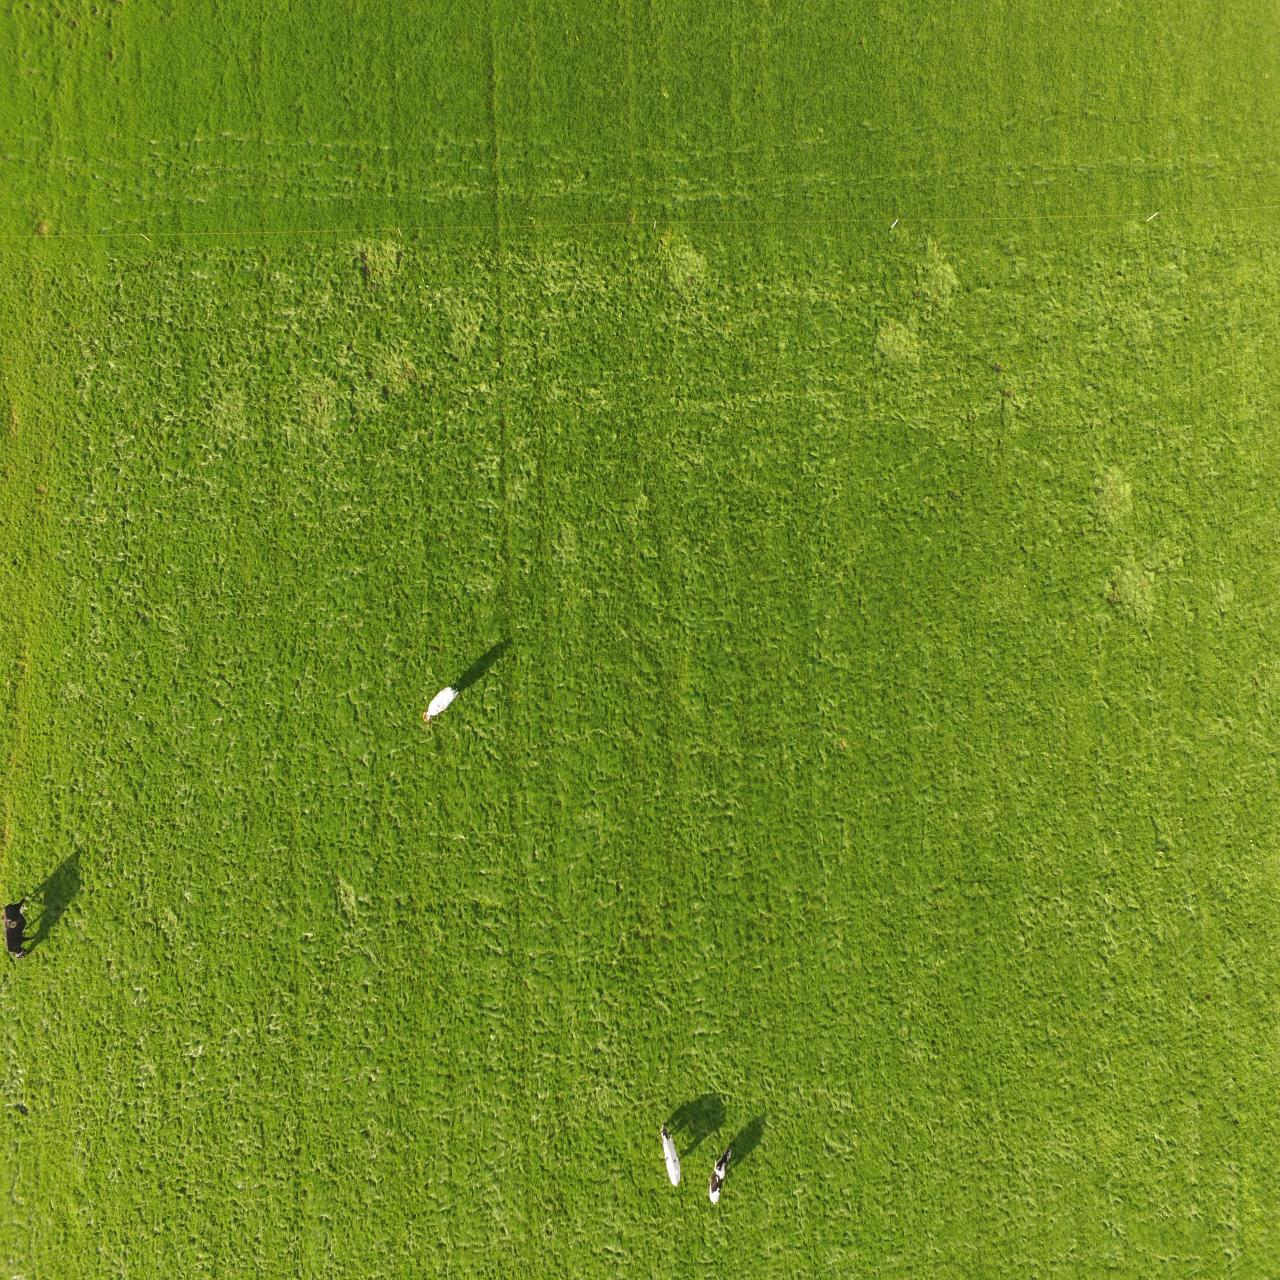cow: (0, 885, 36, 960), (659, 1121, 682, 1189), (420, 685, 459, 723), (707, 1146, 733, 1205)
